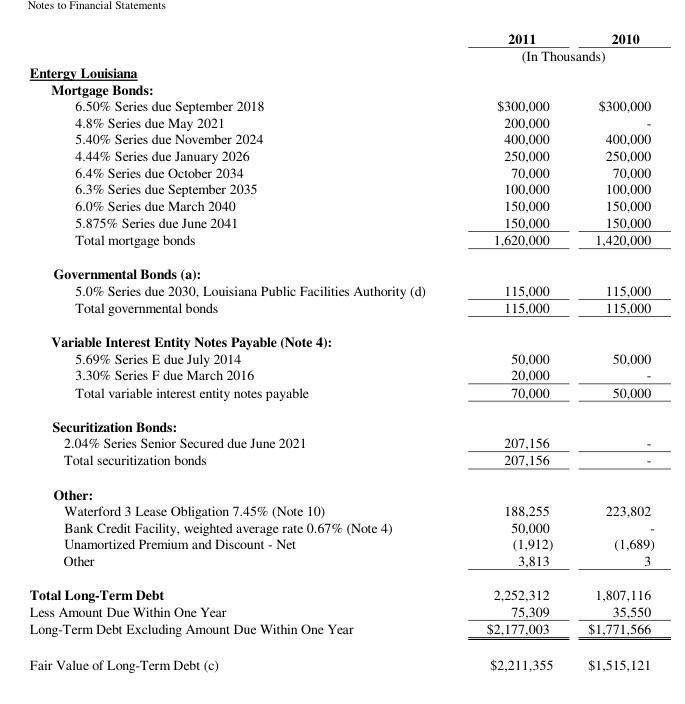table: (28, 28, 654, 672)
table column: (28, 28, 455, 672), (455, 28, 569, 672), (569, 28, 654, 672)
table column header: (28, 28, 654, 63)
table projected row header: (28, 255, 654, 281), (28, 323, 654, 349), (28, 408, 654, 433), (28, 476, 654, 501), (28, 63, 654, 80), (28, 80, 654, 97)
table row: (28, 618, 654, 645), (28, 645, 654, 672), (28, 255, 654, 281), (28, 297, 654, 323), (28, 323, 654, 349), (28, 382, 654, 408), (28, 450, 654, 476), (28, 576, 654, 602), (28, 230, 654, 255), (28, 408, 654, 433), (28, 476, 654, 501), (28, 551, 654, 576), (28, 28, 654, 46), (28, 46, 654, 63), (28, 63, 654, 80), (28, 80, 654, 97), (28, 129, 654, 146), (28, 146, 654, 163), (28, 179, 654, 196), (28, 196, 654, 213), (28, 213, 654, 230), (28, 365, 654, 382), (28, 433, 654, 450), (28, 517, 654, 534), (28, 534, 654, 551), (28, 97, 654, 113), (28, 113, 654, 129), (28, 163, 654, 179), (28, 281, 654, 297), (28, 349, 654, 365), (28, 501, 654, 517), (28, 602, 654, 618)
table spanning cell: (455, 46, 654, 63)
